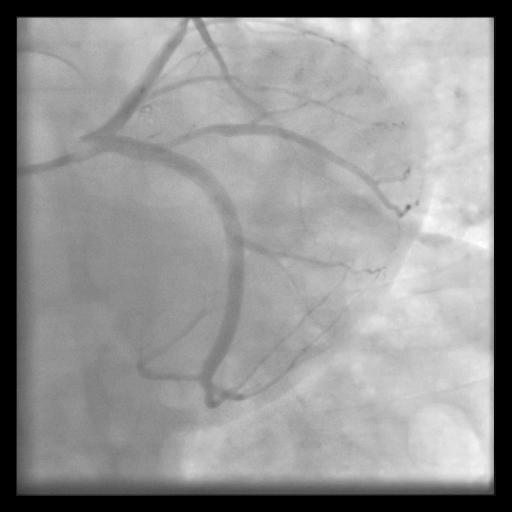Stenosis: (171, 124, 220, 143)
